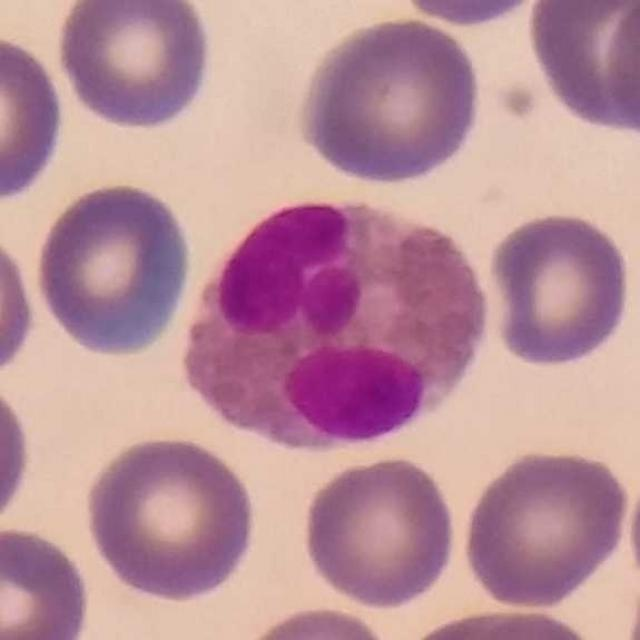eosino: (182, 197, 488, 451)
